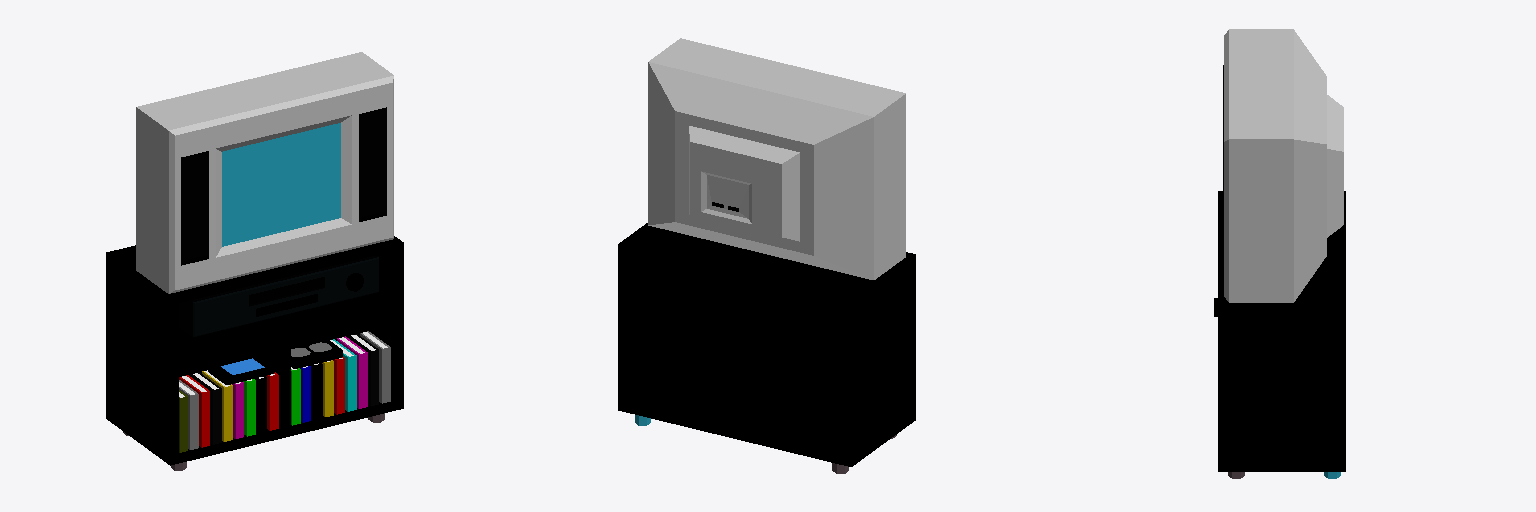
File: TV_set.obj
The picture shows the model from 3 angles: view 1: azimuth 30°, elevation 25°; view 2: azimuth 150°, elevation 25°; view 3: azimuth 270°, elevation 25°; orthographic projection.
Visible parts, largest first — view 1: TV_Old_TV, TV_stand, VideoPlayer, VHS_Caset2, VHS_Caset, VHS_Case.012, VHS_Case.008, VHS_Case.002, VHS_Case.011, VHS_Case.007, VHS_Case.006, VHS_Case.010 (+11 smaller); view 2: TV_stand, TV_Old_TV; view 3: TV_Old_TV, TV_stand.
Boxes of the visible parts, x1=… form: TV_Old_TV: x1=136, y1=52, x2=393, y2=293; TV_stand: x1=106, y1=236, x2=403, y2=465; VideoPlayer: x1=179, y1=255, x2=378, y2=336; VHS_Caset2: x1=208, y1=354, x2=274, y2=384; VHS_Caset: x1=291, y1=338, x2=342, y2=368; VHS_Case.012: x1=190, y1=372, x2=221, y2=444; VHS_Case.008: x1=360, y1=331, x2=390, y2=403; VHS_Case.002: x1=337, y1=336, x2=367, y2=408; VHS_Case.011: x1=179, y1=375, x2=209, y2=447; VHS_Case.007: x1=348, y1=334, x2=378, y2=405; VHS_Case.006: x1=330, y1=339, x2=356, y2=411; VHS_Case.010: x1=179, y1=380, x2=198, y2=449; TV_stand: x1=618, y1=223, x2=915, y2=466; TV_Old_TV: x1=648, y1=38, x2=905, y2=279; TV_Old_TV: x1=1223, y1=29, x2=1343, y2=302; TV_stand: x1=1218, y1=191, x2=1345, y2=471.
Bounding box in the file's own units: 1.82 × 2.55 × 0.8946.